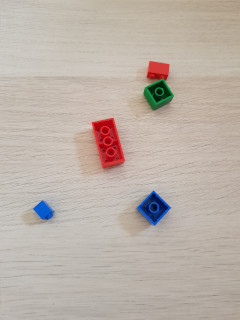1x1 blue: (31, 199, 55, 222)
1x2 red: (147, 60, 170, 81)
2x2 blue: (137, 189, 173, 227)
2x2 green: (143, 80, 174, 110)
2x4 red: (92, 117, 127, 169)
